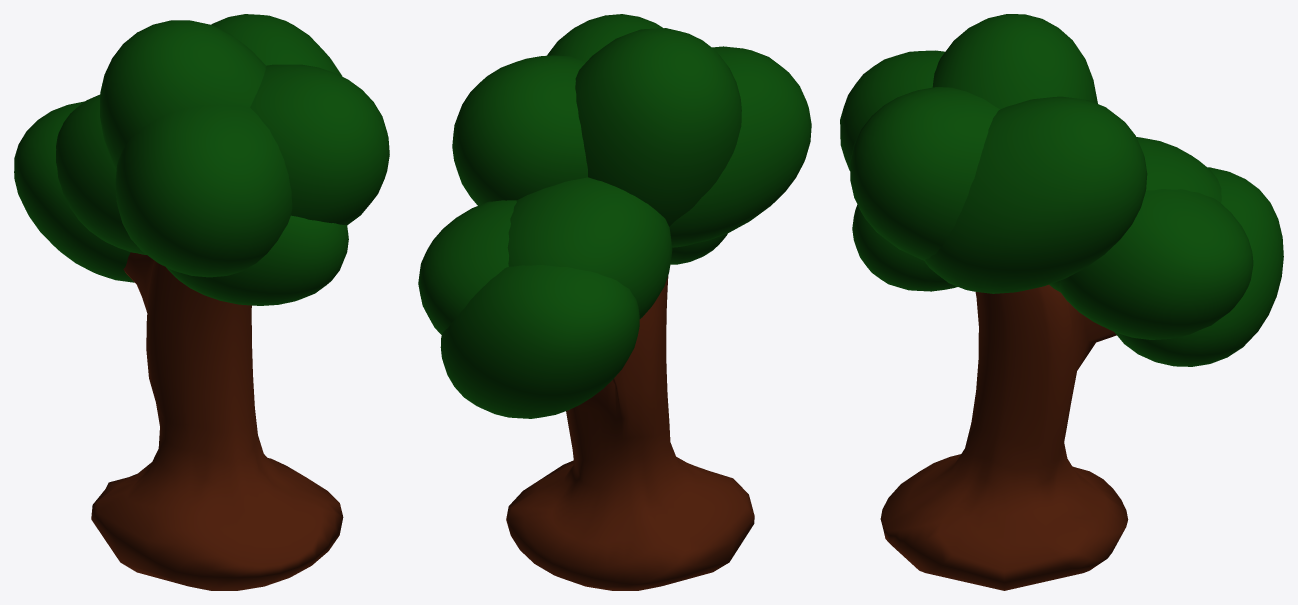
Rendered from CartoonyTree.fbx.
3 renders of one model, left to right at view 1: azimuth 30°, elevation 25°; view 2: azimuth 150°, elevation 25°; view 3: azimuth 270°, elevation 25°, orthographic. The views are drawn at different scales.
Parts seen in each view (by area): view 1: pCube14; view 2: pCube14; view 3: pCube14.
Boxes of the visible parts, left/top/right/bottom form: pCube14: left=14, top=14, right=389, bottom=590; pCube14: left=418, top=14, right=811, bottom=590; pCube14: left=840, top=14, right=1283, bottom=590.
Size of the model in its own units: 26.83 by 51.98 by 39.29.
